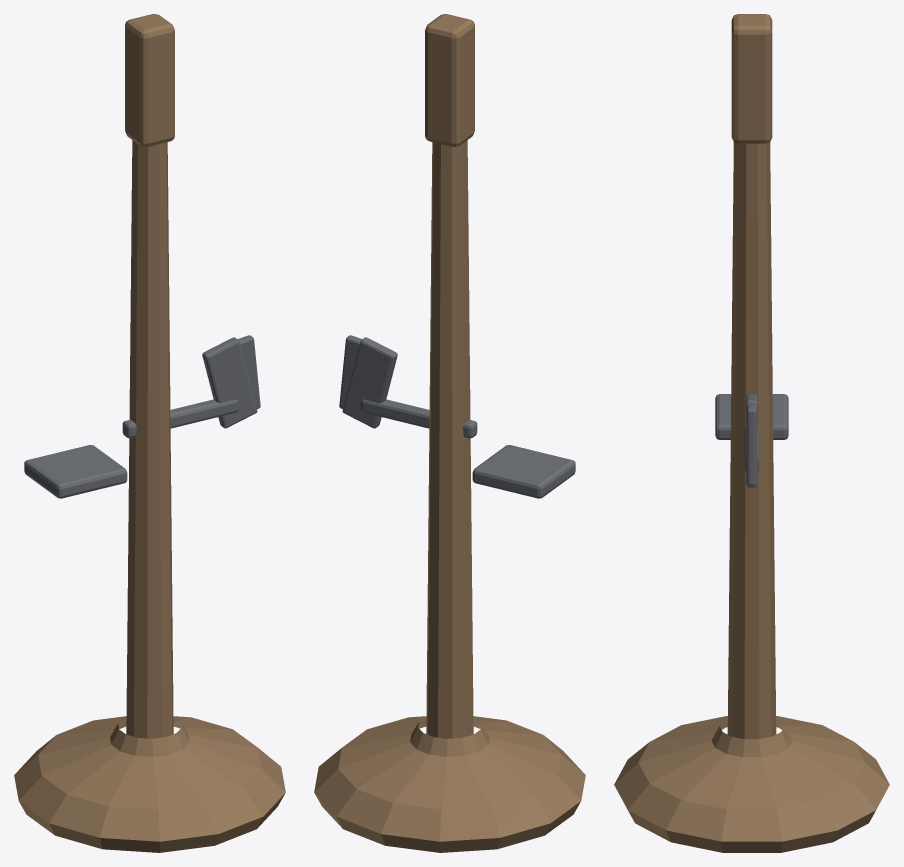
File: monastery_rush_light_stand.glb
3 views of the same model, side by side, from view 1: azimuth 30°, elevation 25°; view 2: azimuth 150°, elevation 25°; view 3: azimuth 270°, elevation 25° (orthographic).
Visible parts, largest first — view 1: world; view 2: world; view 3: world.
Part boxes in pixels (x1=…): world: x1=14, y1=14, x2=285, y2=852; world: x1=314, y1=14, x2=585, y2=852; world: x1=614, y1=14, x2=889, y2=852.
Bounding box in the file's own units: 0.6253 × 2 × 0.6414.
